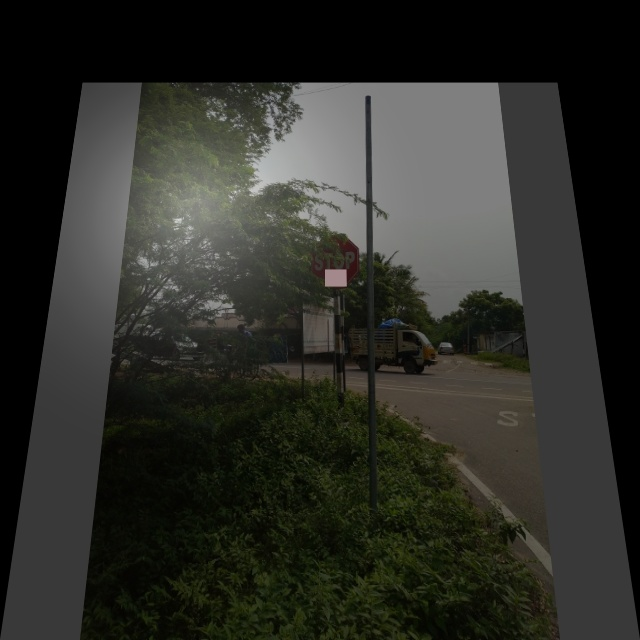Stop: (311, 235, 358, 290)
